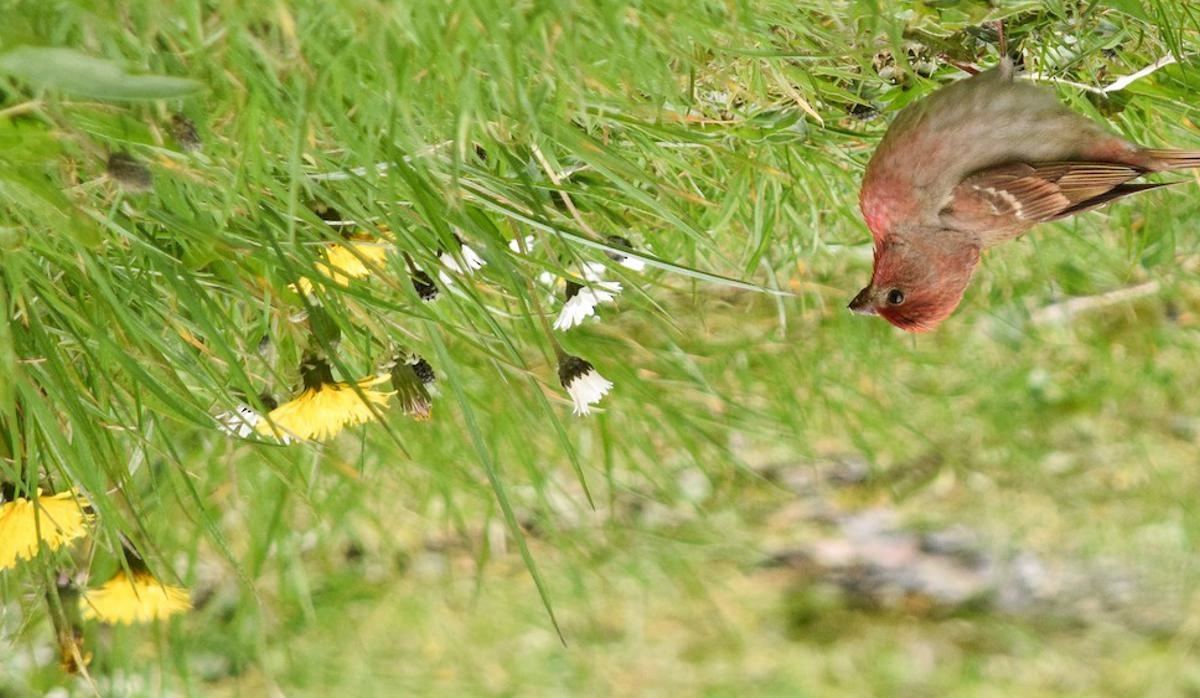rosefinch: (855, 77, 1159, 357)
